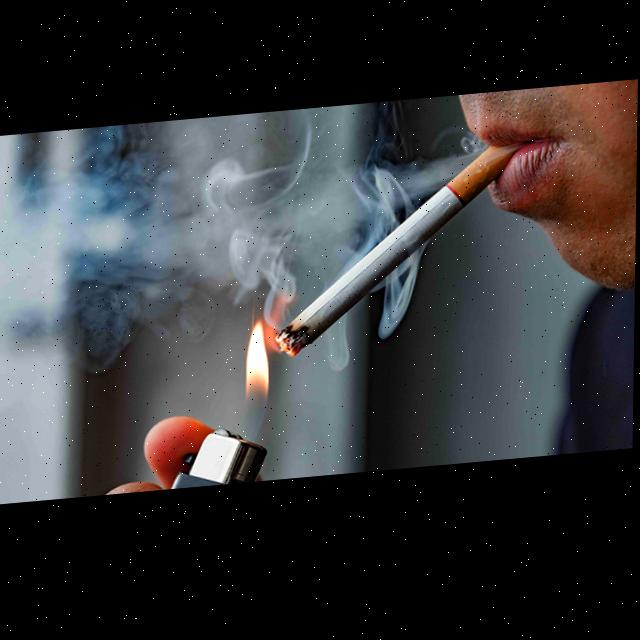cigarette: (276, 152, 522, 364)
